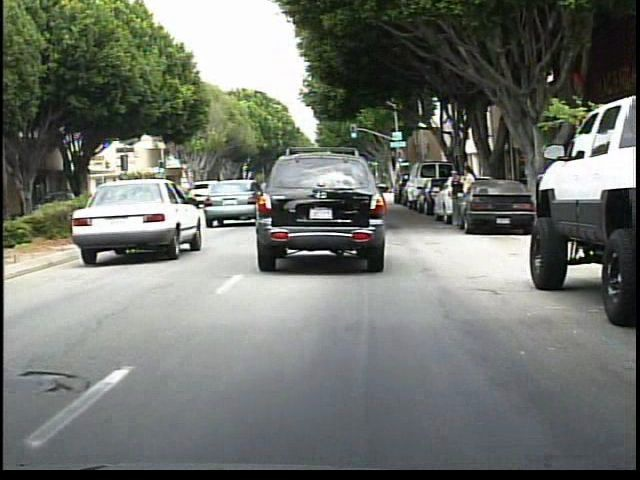person: (448, 169, 468, 233), (460, 164, 478, 225)
